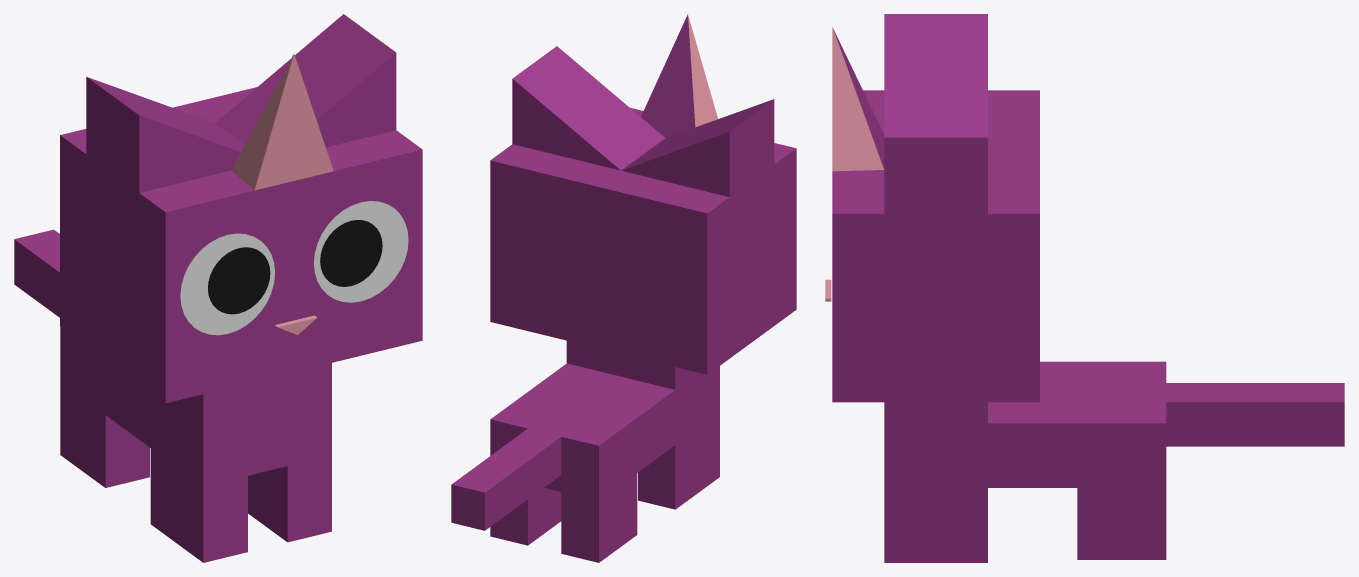
File: unikitty_f.fbx
The picture shows the model from 3 angles, left to right: view 1: azimuth 30°, elevation 25°; view 2: azimuth 150°, elevation 25°; view 3: azimuth 270°, elevation 25°; orthographic projection. The views are drawn at different scales.
Parts seen in each view (by area): view 1: cat, yeux, Circle; view 2: cat; view 3: cat.
Boxes of the visible parts, x1,y1,x2,y2 form: cat: [14, 14, 422, 562]; yeux: [180, 201, 408, 335]; Circle: [208, 220, 382, 314]; cat: [451, 14, 796, 562]; cat: [825, 14, 1344, 562].
Size of the model in its own units: 282 by 537 by 500.
